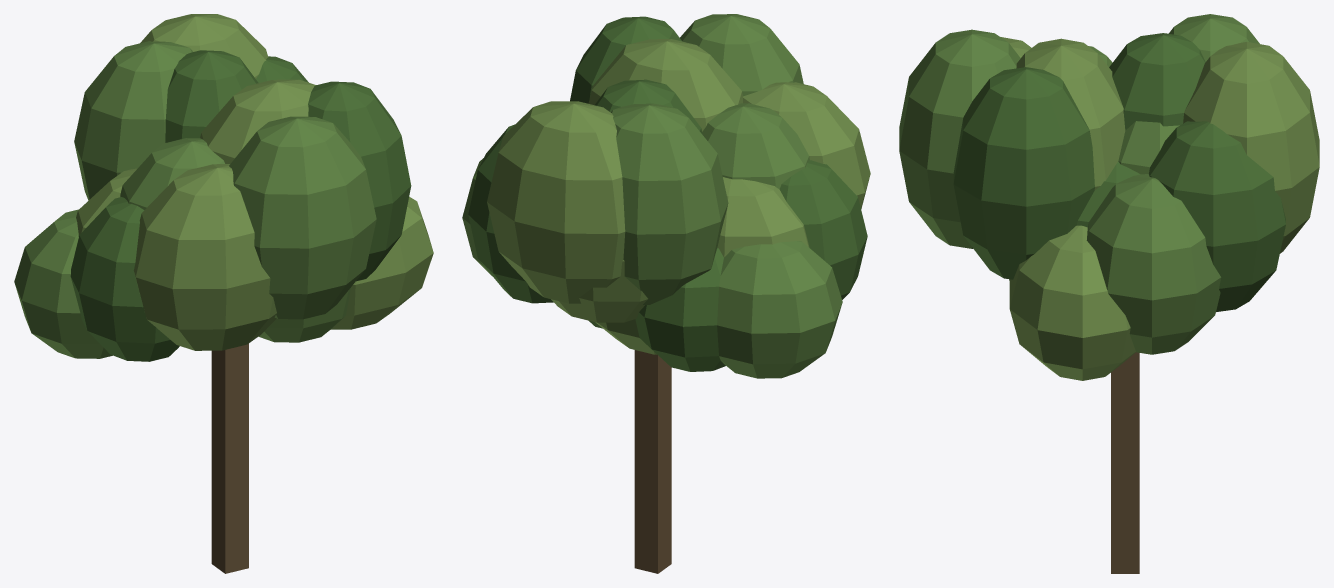
Rendered from campus_tree.glb.
3 views of the same model, side by side, from view 1: azimuth 30°, elevation 25°; view 2: azimuth 150°, elevation 25°; view 3: azimuth 270°, elevation 25° (orthographic). The views are drawn at different scales.
Parts seen in each view (by area): view 1: foliage (×3), trunk; view 2: foliage (×3), trunk; view 3: foliage (×3), trunk.
Part boxes in pixels (box(x1,y1,x2,y2)): foliage (×3): box(14, 14, 433, 361); trunk: box(211, 343, 248, 573); foliage (×3): box(462, 14, 870, 378); trunk: box(634, 350, 671, 573); foliage (×3): box(899, 14, 1319, 380); trunk: box(1111, 352, 1139, 573).
Size of the model in its own units: 4.76 by 6.11 by 4.39.
